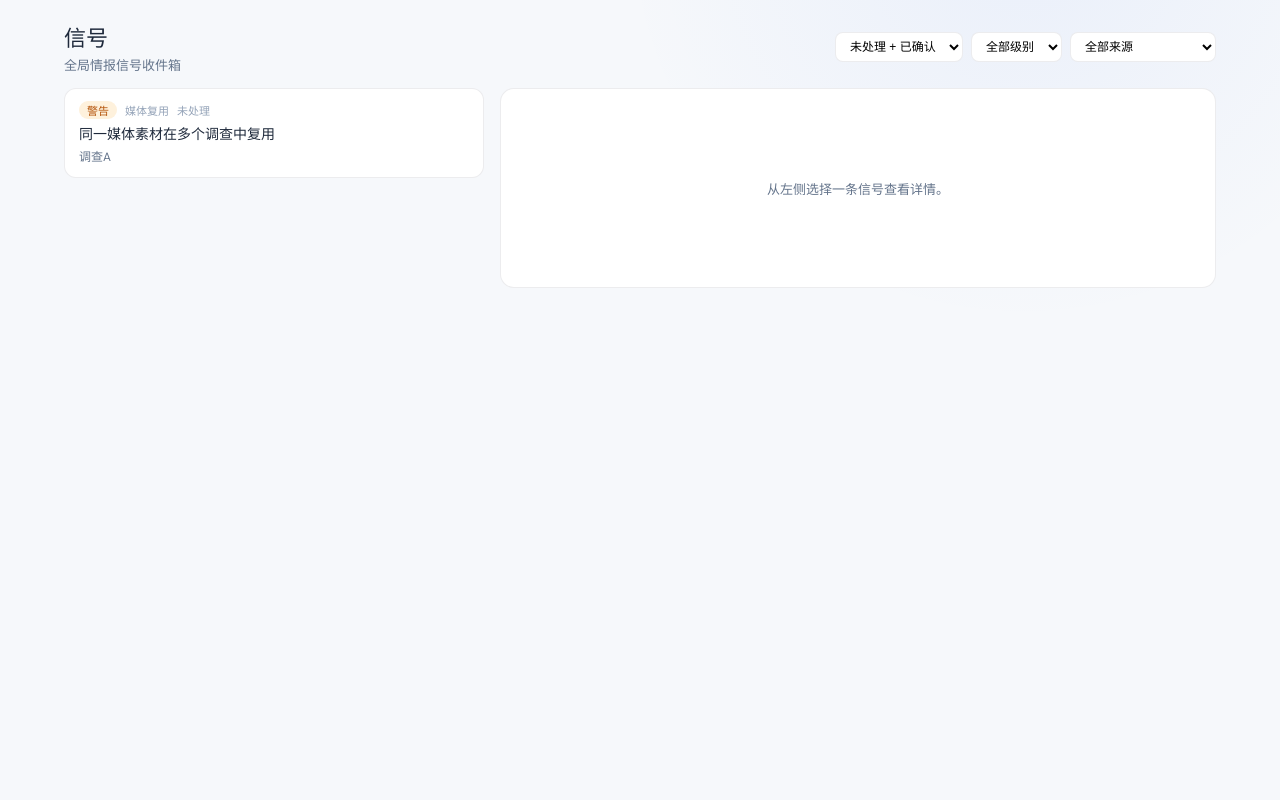
it: SignalsView (V3 §59) › renders the Evidence section for derived signals (F-S04)
Click the button with class "sigview__card" at coordinates (274, 133), box [64,88,484,178]
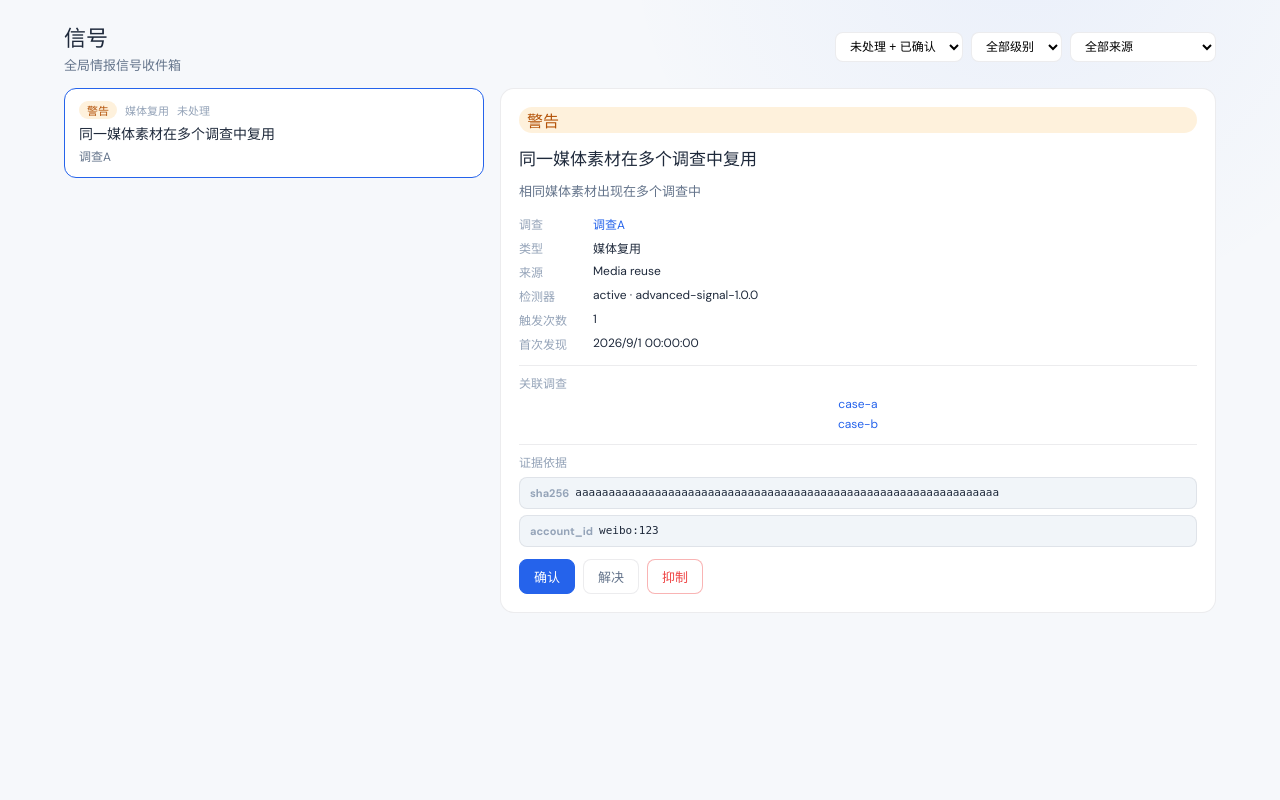
Result: the element with test id "signal-evidence" is shown at [519,444,1197,547]
Result: the element with test id "signal-evidence" shows "sha256" at [530,486,569,500]
Result: the element with test id "signal-evidence" shows "account_id" at [530,524,593,538]
